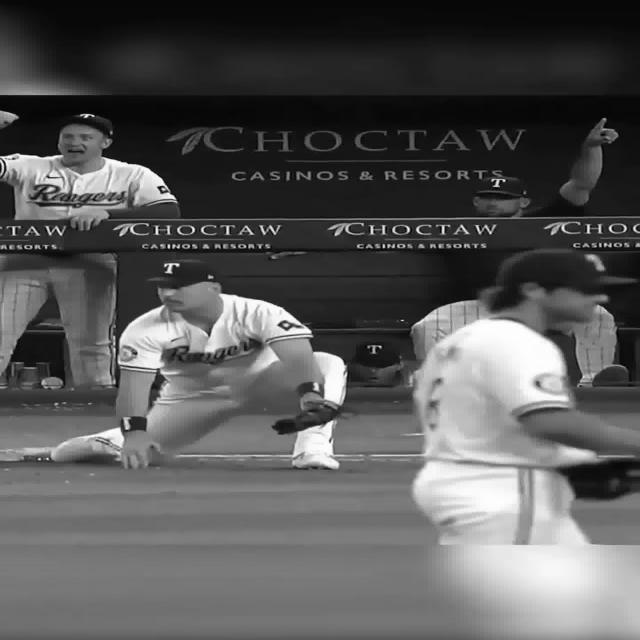base: (0, 447, 118, 462)
baseball_glove: (560, 456, 638, 500), (270, 399, 342, 435)
shoe: (48, 428, 155, 462), (290, 451, 340, 470)
